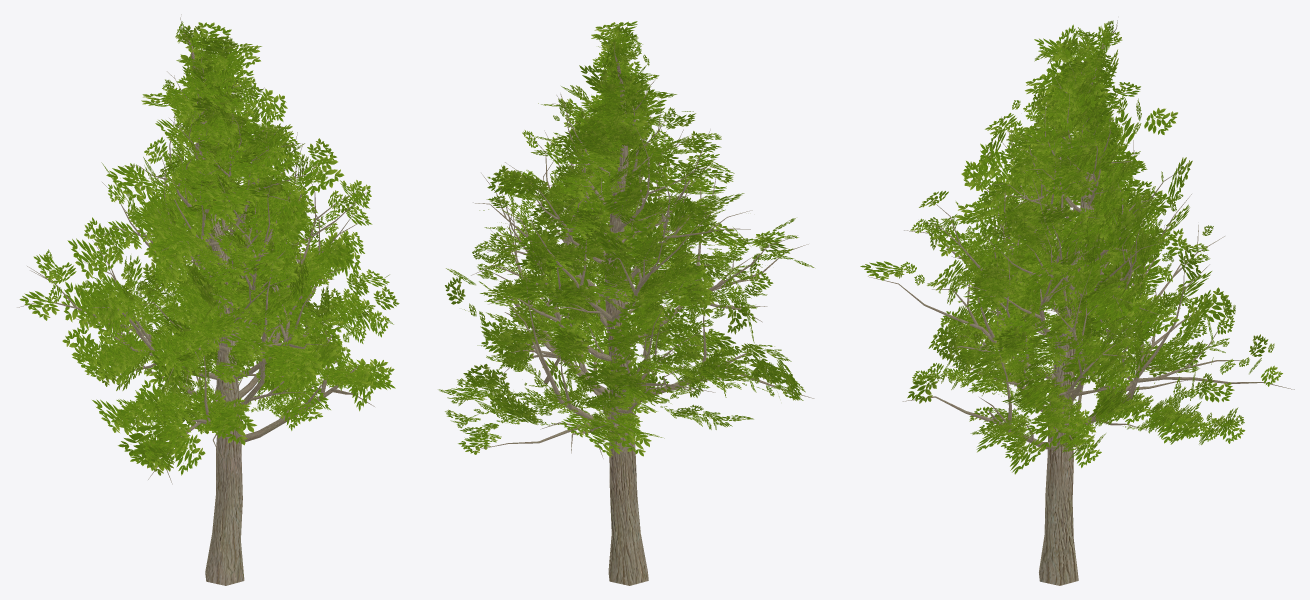
Rendered from Tree_1_1.glb.
3 renders of one model, left to right at view 1: azimuth 30°, elevation 25°; view 2: azimuth 150°, elevation 25°; view 3: azimuth 270°, elevation 25°, orthographic. The views are drawn at different scales.
Parts seen in each view (by area): view 1: Tree_1_V1; view 2: Tree_1_V1; view 3: Tree_1_V1.
Part boxes in pixels (<box>): Tree_1_V1: <box>17,14,399,585</box>; Tree_1_V1: <box>438,21,814,585</box>; Tree_1_V1: <box>860,20,1294,585</box>.
Size of the model in its own units: 4.07 by 6.69 by 4.89.
Materials: 1 (1 with a texture image).
